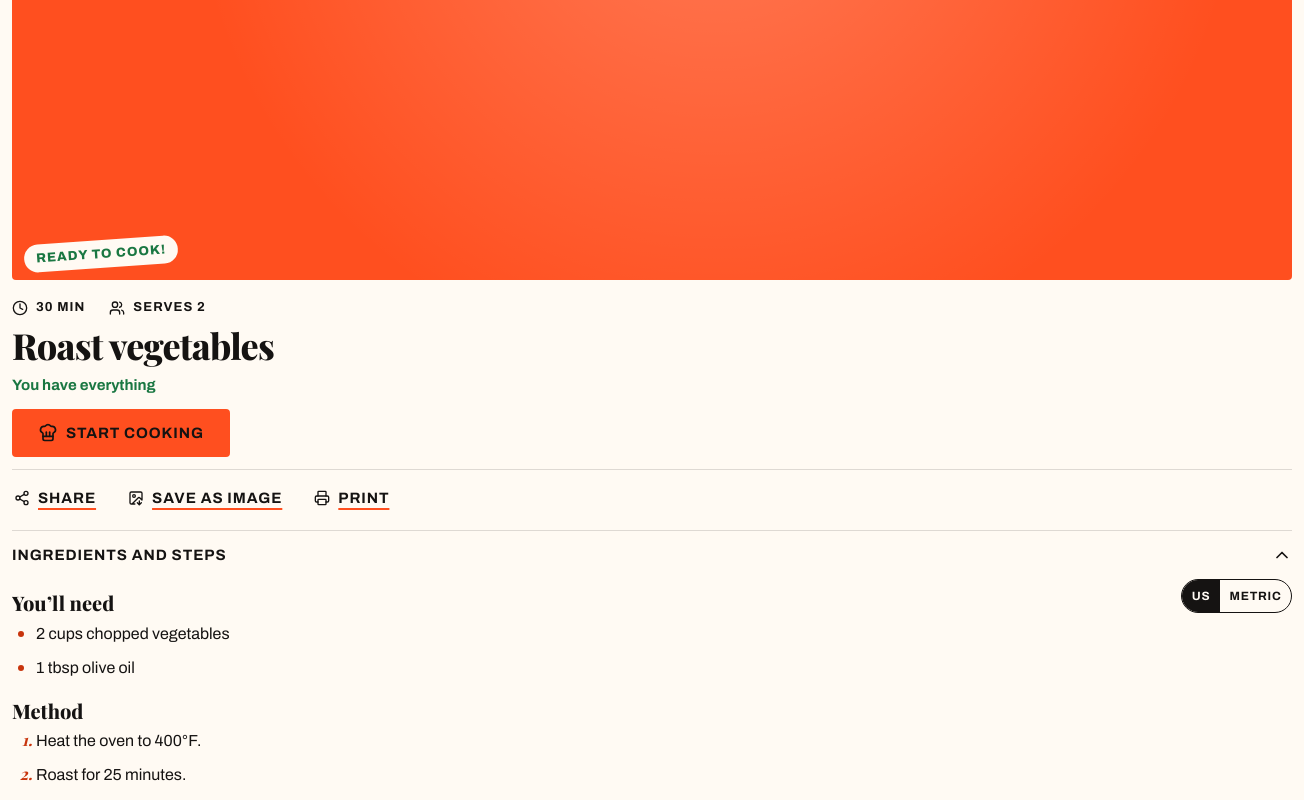
Test case: switches every amount and oven temperature between US and metric
(page scrolled)
Expected: the list item "2 cups chopped vegetables" is shown, [36, 625, 230, 642]
Expected: the list item "Heat the oven to 400°F." is shown, [36, 732, 202, 749]
Click the button "Metric" at (1256, 596), box [1220, 580, 1291, 612]
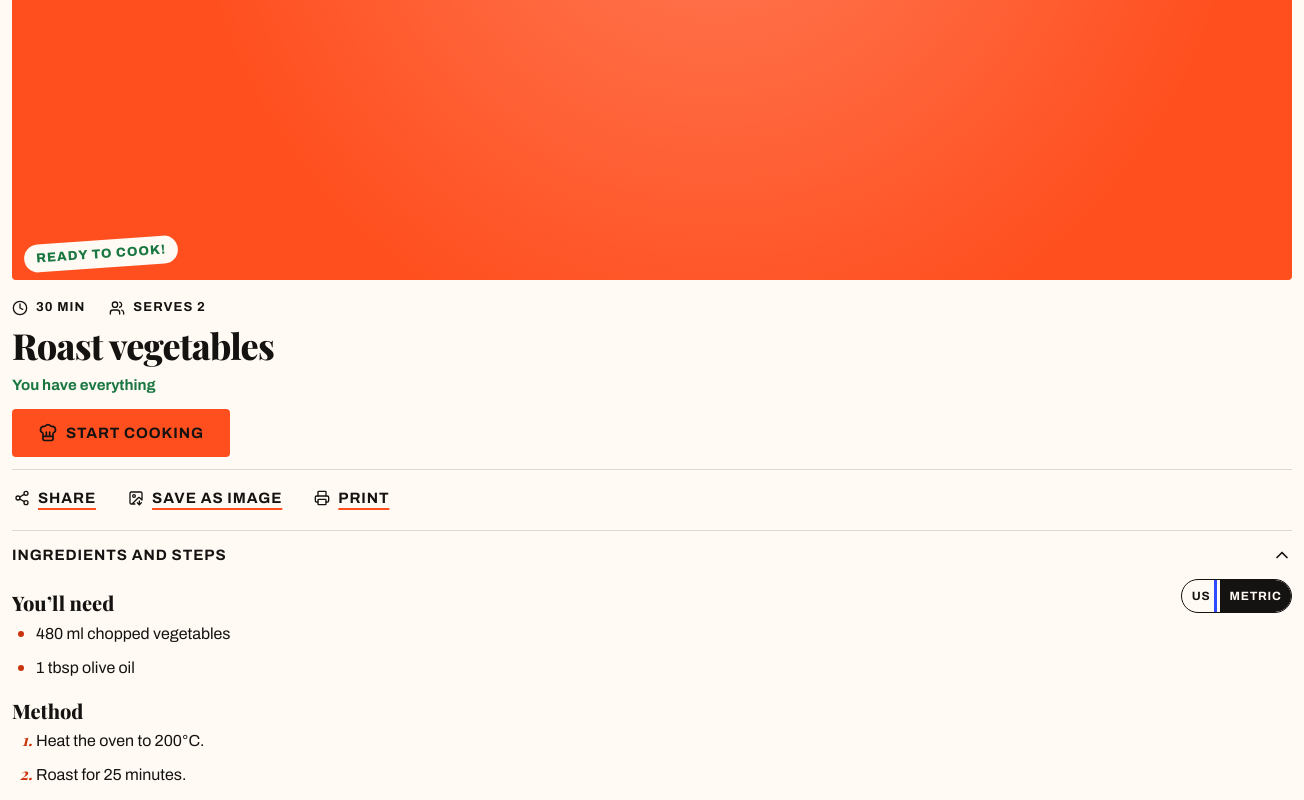
Expected: the list item "1 tbsp olive oil" is shown, [36, 659, 135, 676]
Expected: the list item "480 ml chopped vegetables" is shown, [36, 625, 230, 642]
Expected: the list item "Heat the oven to 200°C." is shown, [36, 732, 204, 749]
